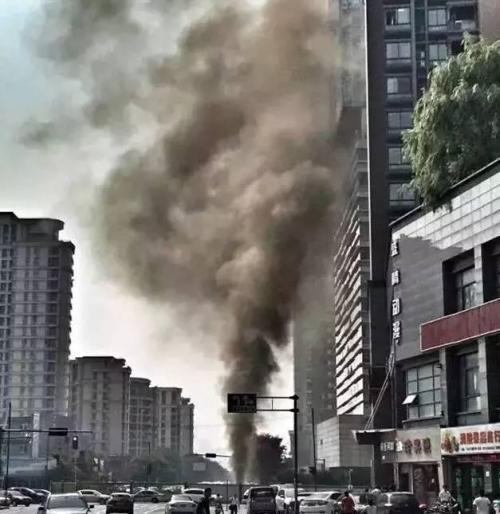smoke: (141, 7, 327, 446)
